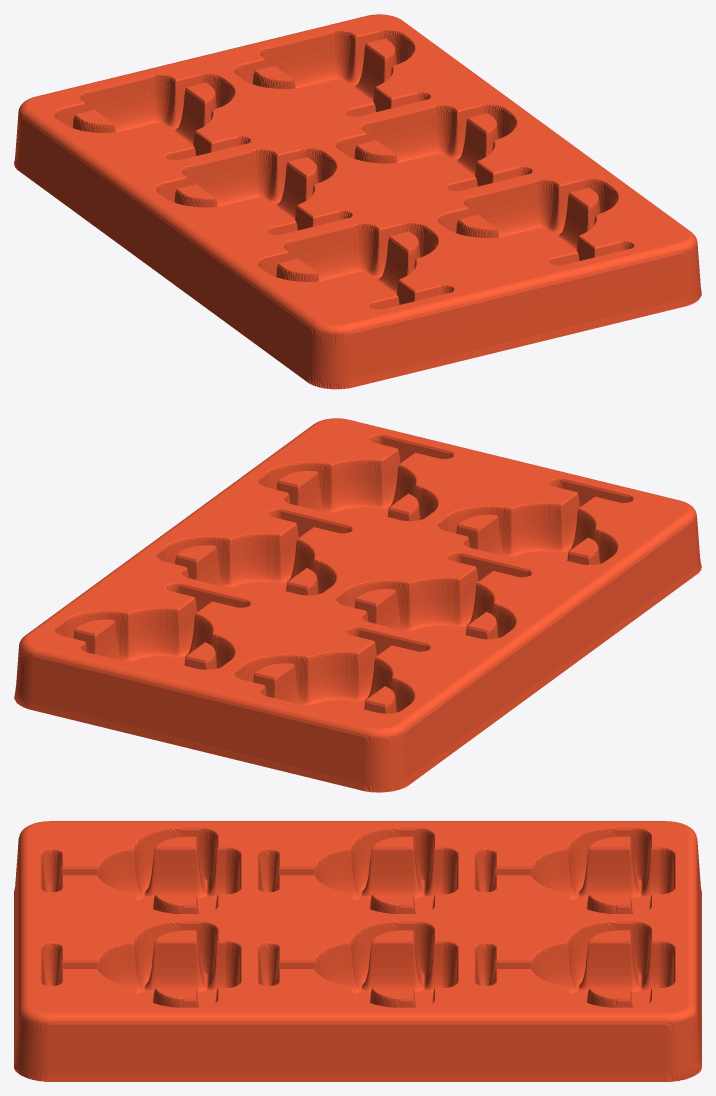
File: mold.glb
The picture shows the model from 3 angles, top to bottom: view 1: azimuth 30°, elevation 25°; view 2: azimuth 150°, elevation 25°; view 3: azimuth 270°, elevation 25°; orthographic projection. The views are drawn at different scales.
Parts seen in each view (by area): view 1: geometry_0; view 2: geometry_0; view 3: geometry_0.
Boxes of the visible parts, <box> form: geometry_0: <box>14,14,701,389</box>; geometry_0: <box>14,418,701,792</box>; geometry_0: <box>14,821,701,1081</box>.
Size of the model in its own units: 0.1211 by 0.0175 by 0.1735.
